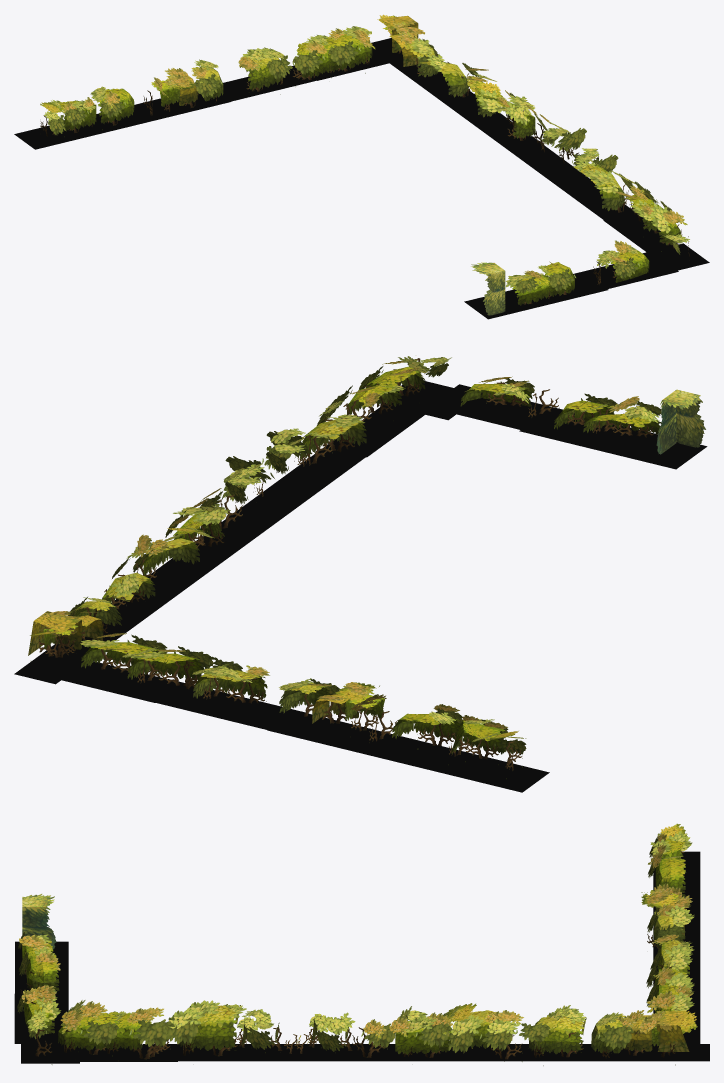
File: K1_oldhedgerow1_3.FBX
3 views of the same model, one above another, from view 1: azimuth 30°, elevation 25°; view 2: azimuth 150°, elevation 25°; view 3: azimuth 270°, elevation 25° (orthographic). The views are drawn at different scales.
Parts seen in each view (by area): view 1: k1_oldcao552, k1_oldcao535, k1_oldcao557, k1_oldcao555, k1_oldcao545, k1_oldcao542, k1_oldcao528, k1_oldcao529, k1_oldcao551, k1_oldcao532, k1_oldcao526, k1_oldcao534 (+15 smaller); view 2: k1_oldcao566, k1_oldcao535, k1_oldcao552, k1_oldcao529, k1_oldcao563, k1_oldcao557, k1_oldcao542, k1_oldcao545, k1_oldcao538, k1_oldcao531, k1_oldcao532, k1_oldcao536 (+22 smaller); view 3: k1_oldcao542, k1_oldcao528, k1_oldcao539, k1_oldcao526, k1_oldcao551, k1_oldcao538, k1_oldcao535, k1_oldcao557, k1_oldcao532, k1_oldcao545, k1_oldcao531, k1_oldcao552 (+19 smaller).
Part boxes in pixels (x1,y1,x2,y2): k1_oldcao552: [296, 26, 375, 78]; k1_oldcao535: [437, 91, 555, 165]; k1_oldcao557: [151, 59, 223, 106]; k1_oldcao555: [238, 47, 325, 92]; k1_oldcao545: [506, 261, 575, 305]; k1_oldcao542: [467, 76, 550, 138]; k1_oldcao528: [572, 160, 658, 211]; k1_oldcao529: [573, 254, 678, 293]; k1_oldcao551: [383, 19, 439, 77]; k1_oldcao532: [522, 152, 594, 198]; k1_oldcao526: [625, 194, 687, 245]; k1_oldcao534: [409, 72, 499, 120]; k1_oldcao566: [141, 679, 308, 733]; k1_oldcao535: [134, 515, 265, 614]; k1_oldcao552: [80, 633, 204, 679]; k1_oldcao529: [428, 384, 574, 436]; k1_oldcao563: [419, 746, 549, 792]; k1_oldcao557: [279, 678, 386, 723]; k1_oldcao542: [142, 488, 230, 576]; k1_oldcao545: [554, 393, 661, 434]; k1_oldcao538: [220, 428, 315, 504]; k1_oldcao531: [273, 436, 386, 494]; k1_oldcao532: [221, 472, 332, 534]; k1_oldcao536: [519, 418, 683, 461]; k1_oldcao542: [361, 1006, 506, 1054]; k1_oldcao528: [127, 1000, 246, 1050]; k1_oldcao539: [479, 1005, 586, 1054]; k1_oldcao526: [58, 1000, 152, 1050]; k1_oldcao551: [591, 1010, 678, 1053]; k1_oldcao538: [237, 1009, 355, 1051]; k1_oldcao535: [340, 1044, 548, 1061]; k1_oldcao557: [646, 883, 694, 947]; k1_oldcao532: [235, 1044, 359, 1061]; k1_oldcao545: [18, 932, 60, 990]; k1_oldcao531: [143, 1044, 267, 1061]; k1_oldcao552: [646, 967, 694, 1012].
Bounding box in the file's own units: 1342 × 174 × 1803.
